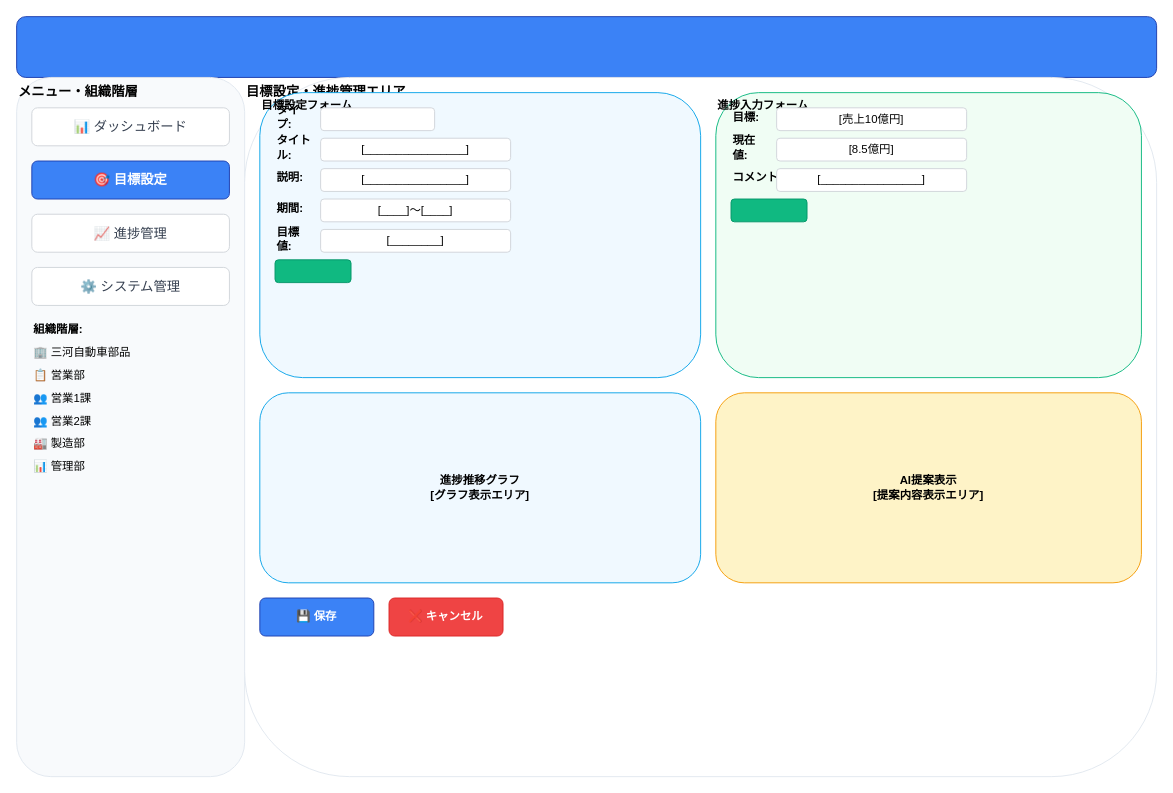
Image size: 1173x793. Some labels were removed from this diagram. Here are the shapes that lost their labels. From the top down, the centre of each, then its label:
At (x=586, y=46): "目標設定・進捗管理".
At (x=377, y=119): "[会社目標▼]".
At (x=768, y=210): "📈 更新".
At (x=312, y=271): "🤖 AI提案".
